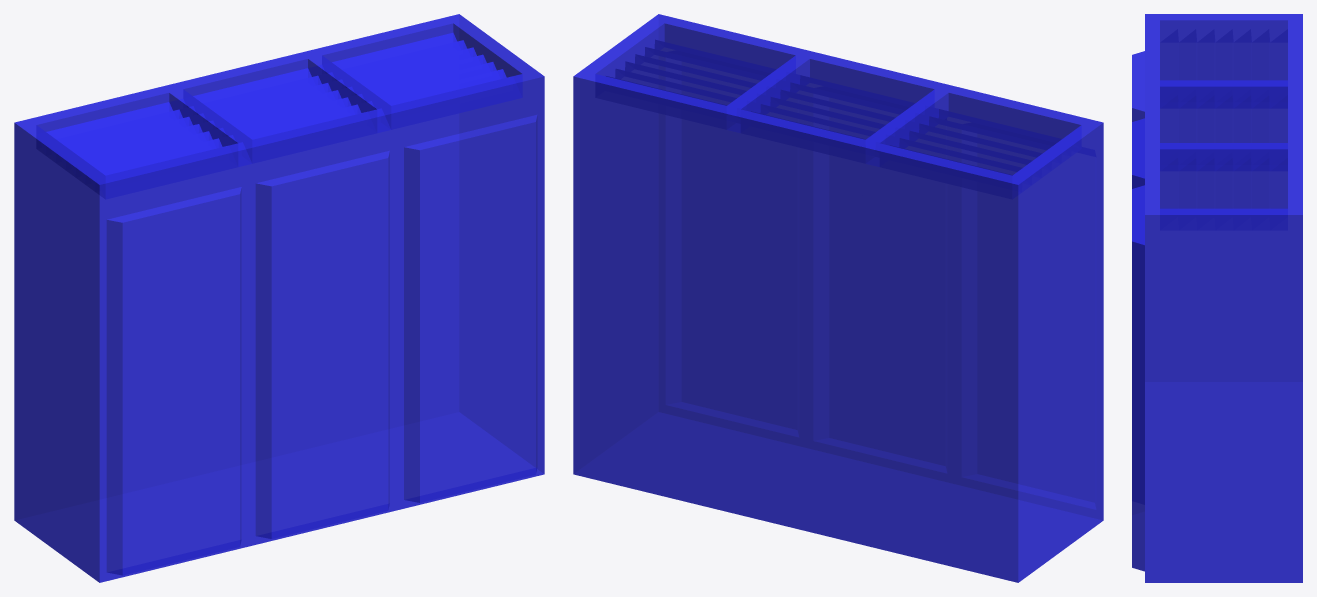
The model's file is pm_cooling.FBX.
3 renders of one model, left to right at view 1: azimuth 30°, elevation 25°; view 2: azimuth 150°, elevation 25°; view 3: azimuth 270°, elevation 25°, orthographic. The views are drawn at different scales.
Parts seen in each view (by area): view 1: Object003; view 2: Object003; view 3: Object003.
Boxes of the visible parts, box(x1,y1,x2,y2) form: Object003: box(14, 14, 544, 582); Object003: box(573, 14, 1103, 582); Object003: box(1132, 14, 1302, 582).
Bounding box in the file's own units: 3.38 × 2.89 × 1.22.
